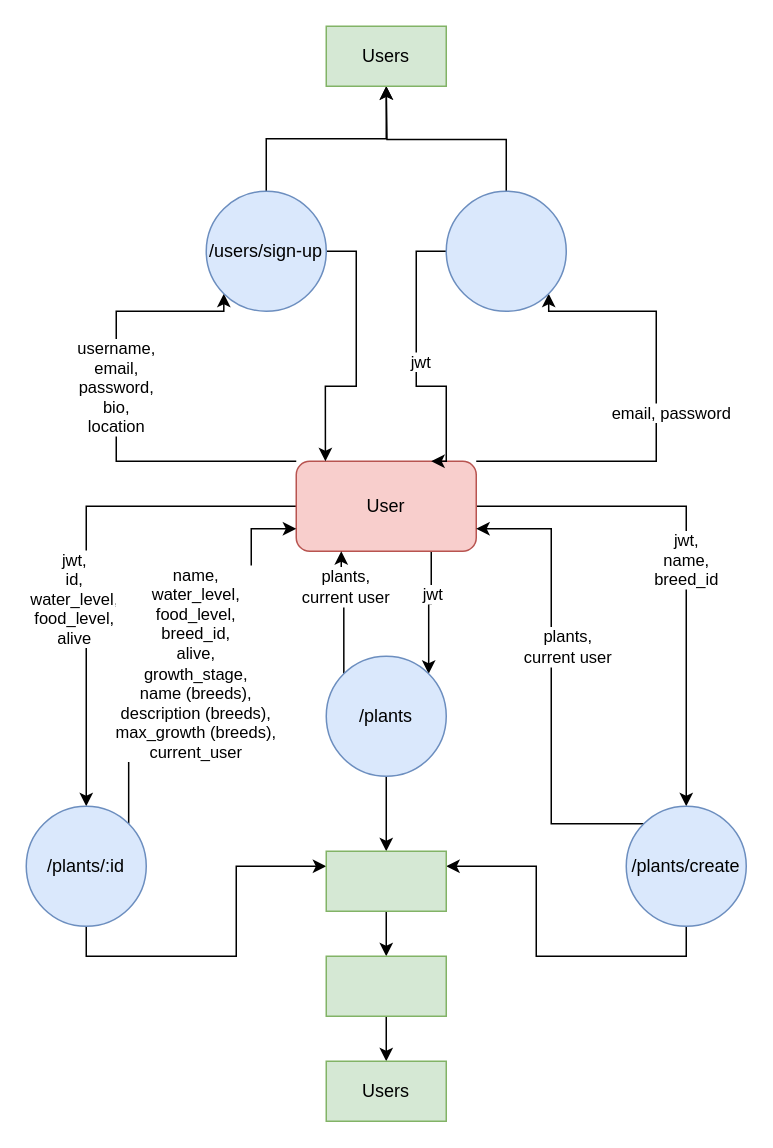
The diagram is 773 pixels wide and 1148 high, and some of its shapes have lost their labels. Each missing label, with the centre of its shape:
"/users/login" belongs at pixel 505 250.
"Breeds" belongs at pixel 385 985.
"Plants" belongs at pixel 385 880.
